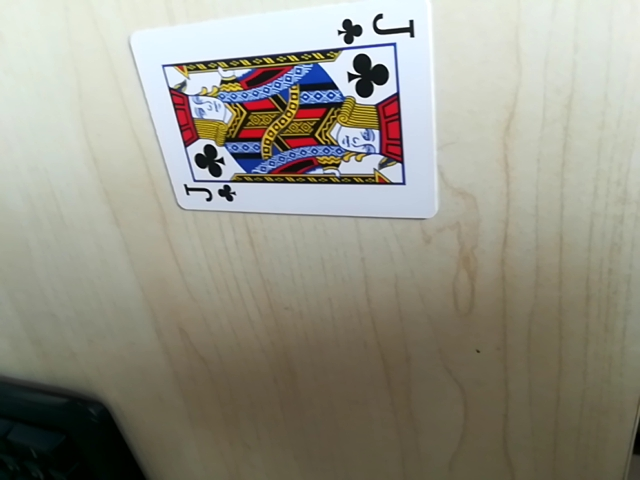mh j: (341, 9, 421, 44), (176, 177, 234, 210)
